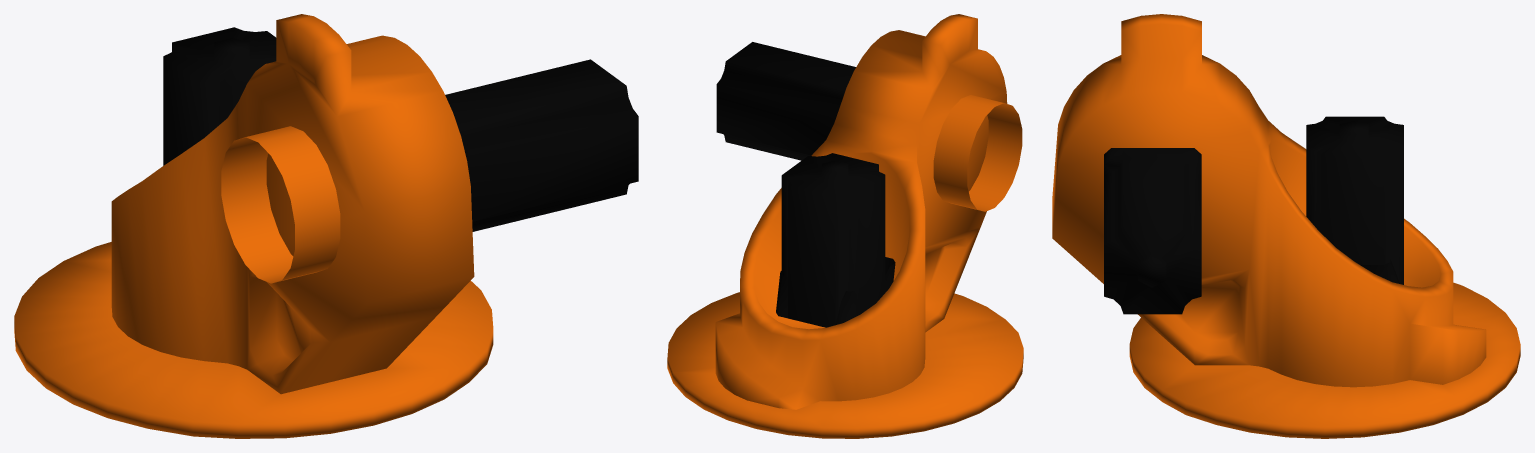
3 renders of one model, left to right at view 1: azimuth 30°, elevation 25°; view 2: azimuth 150°, elevation 25°; view 3: azimuth 270°, elevation 25°, orthographic. The views are drawn at different scales.
Visible parts, largest first — view 1: Object_94.001; view 2: Object_94.001; view 3: Object_94.001.
Part boxes in pixels (x1=…): Object_94.001: x1=14, y1=14, x2=638, y2=438; Object_94.001: x1=667, y1=14, x2=1023, y2=438; Object_94.001: x1=1052, y1=14, x2=1520, y2=438.
Size of the model in its own units: 2.64 by 2.81 by 2.13.
